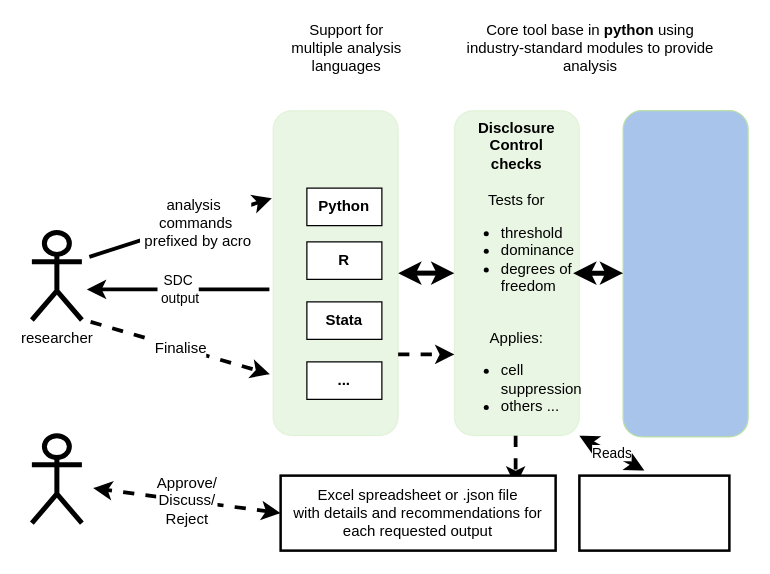
Some shapes in this 770 by 574 pixel diagram are drawn without their labels. Here are the shapes that lost their labels. From the top down, the box of each, then its label:
(272, 109, 398, 436): lightweight translation functions
(622, 109, 748, 437): Standard Python Libraries pandas for tables statsmodels for regression
(29, 432, 84, 525): TRE staff
(578, 474, 730, 551): TRE-specific file detailing risk appetite
